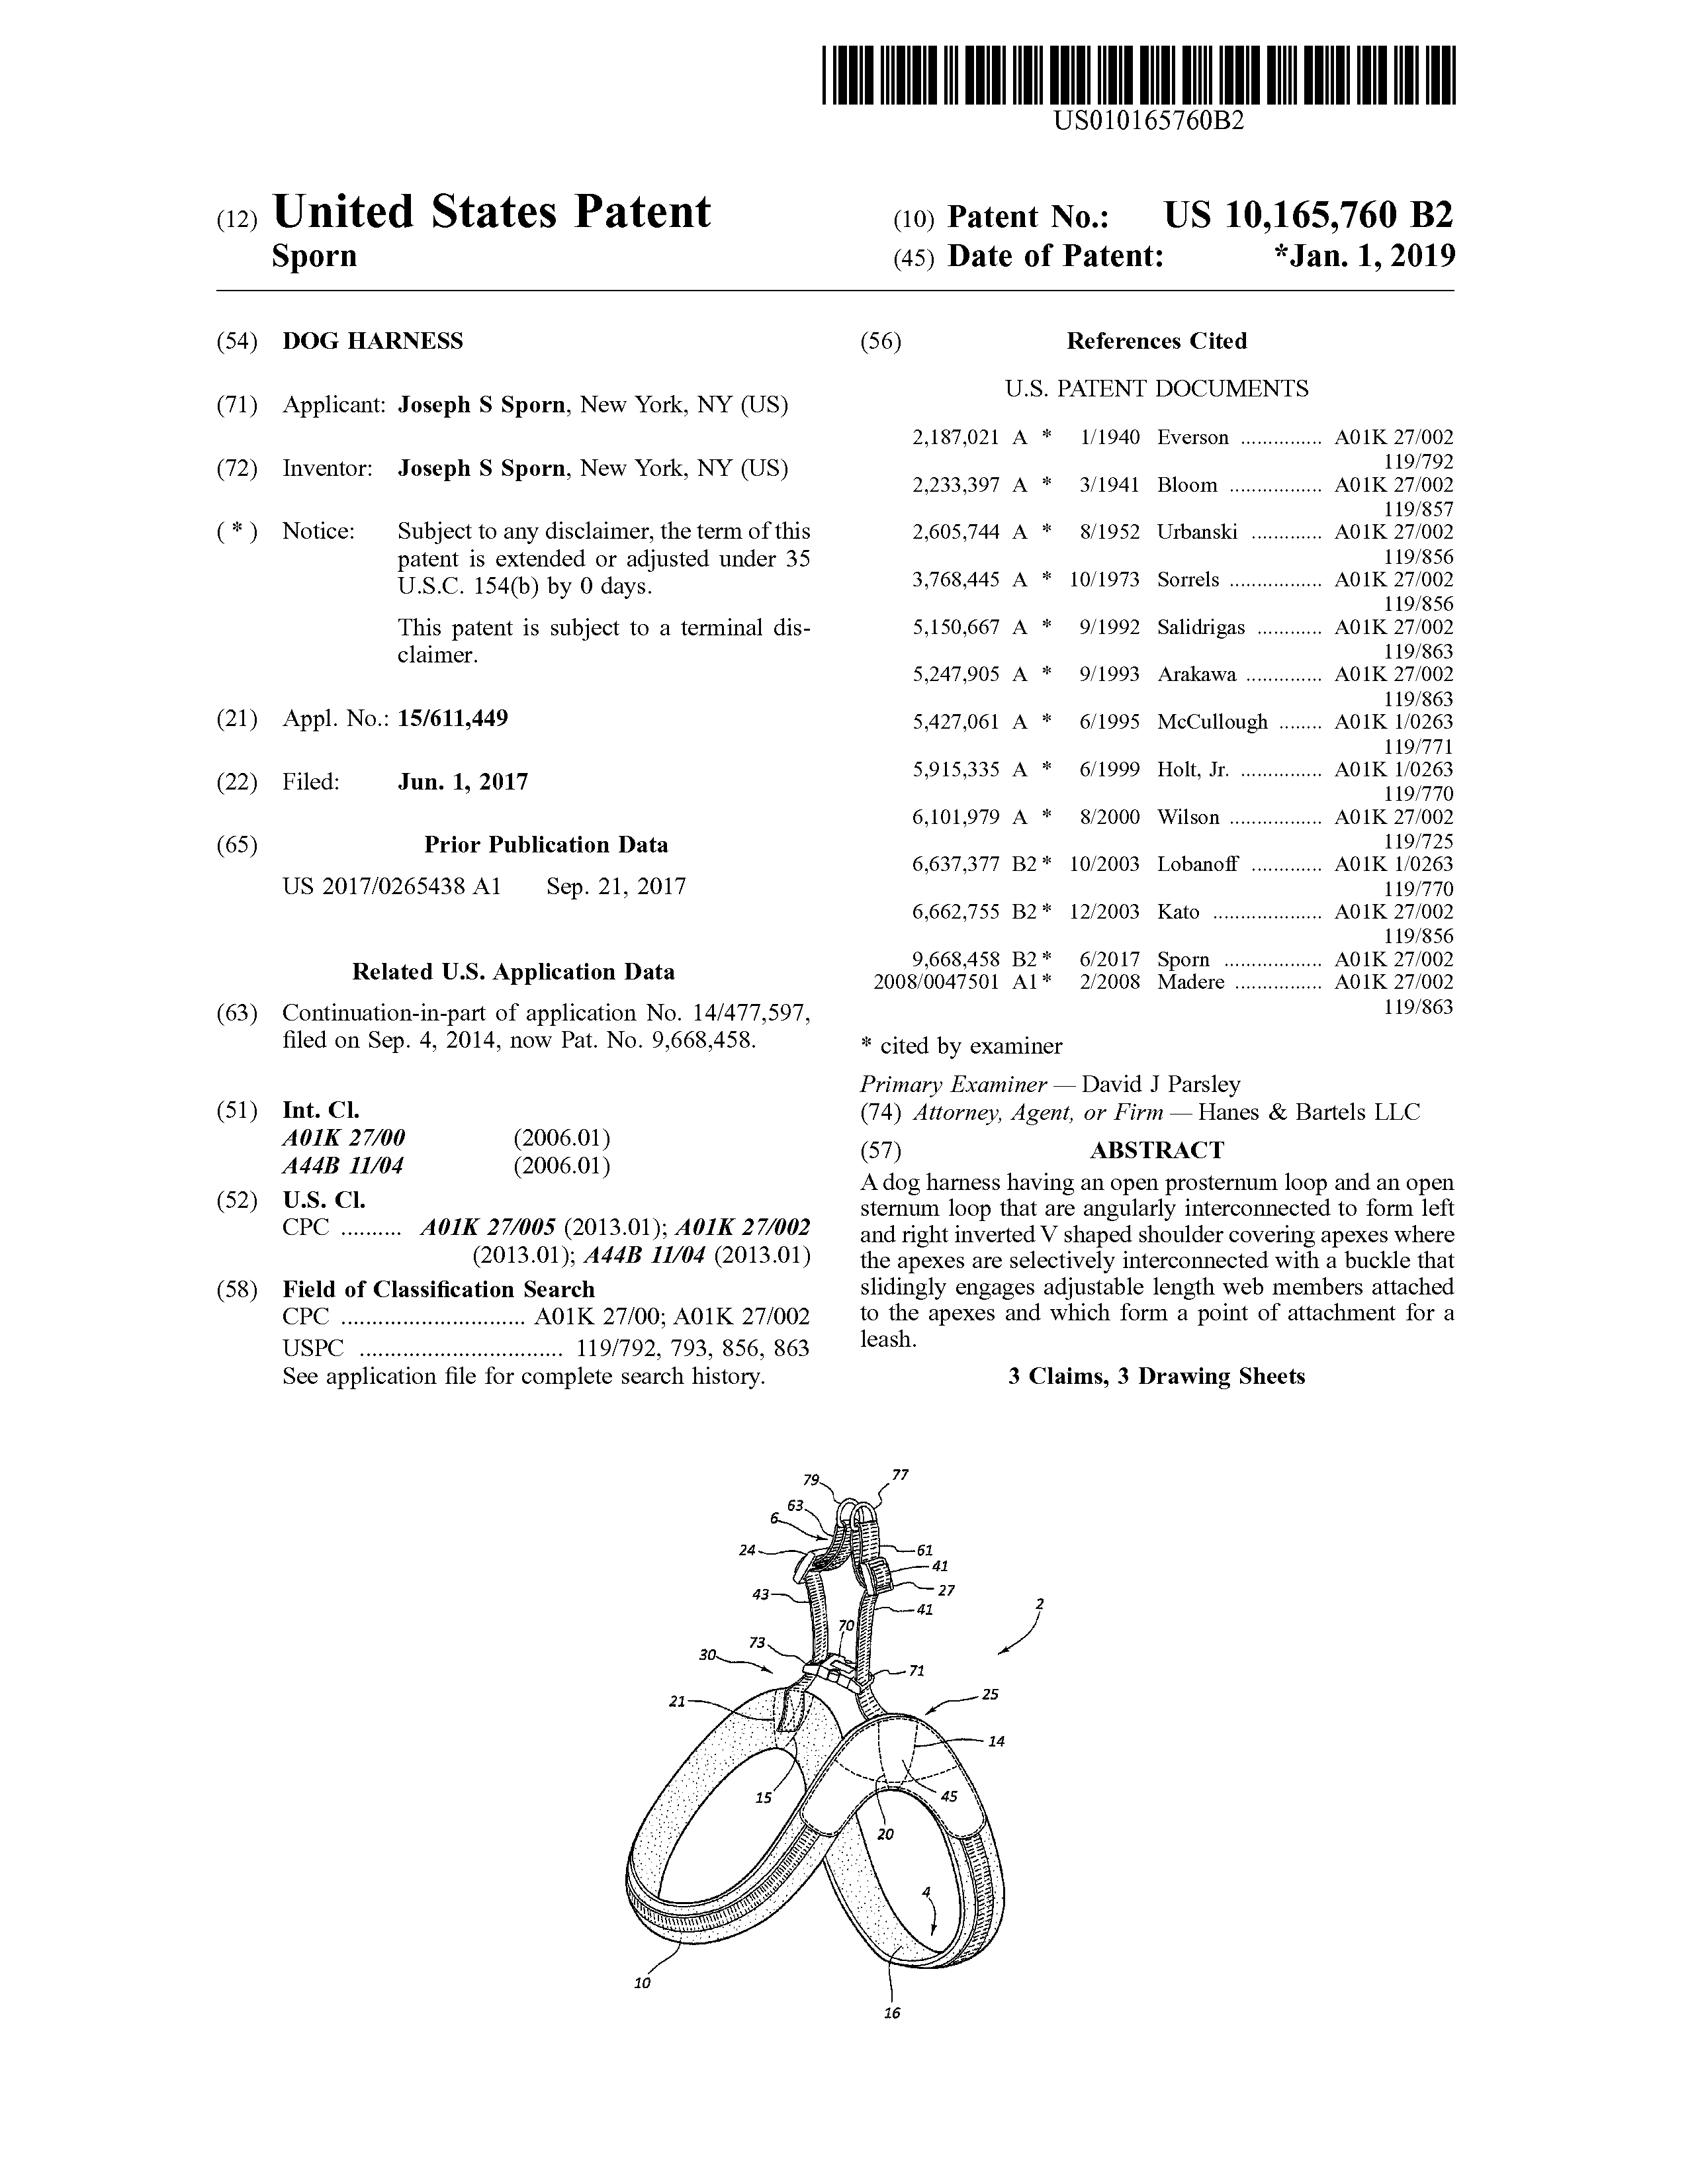patent image: (589, 1437, 1083, 2073)
